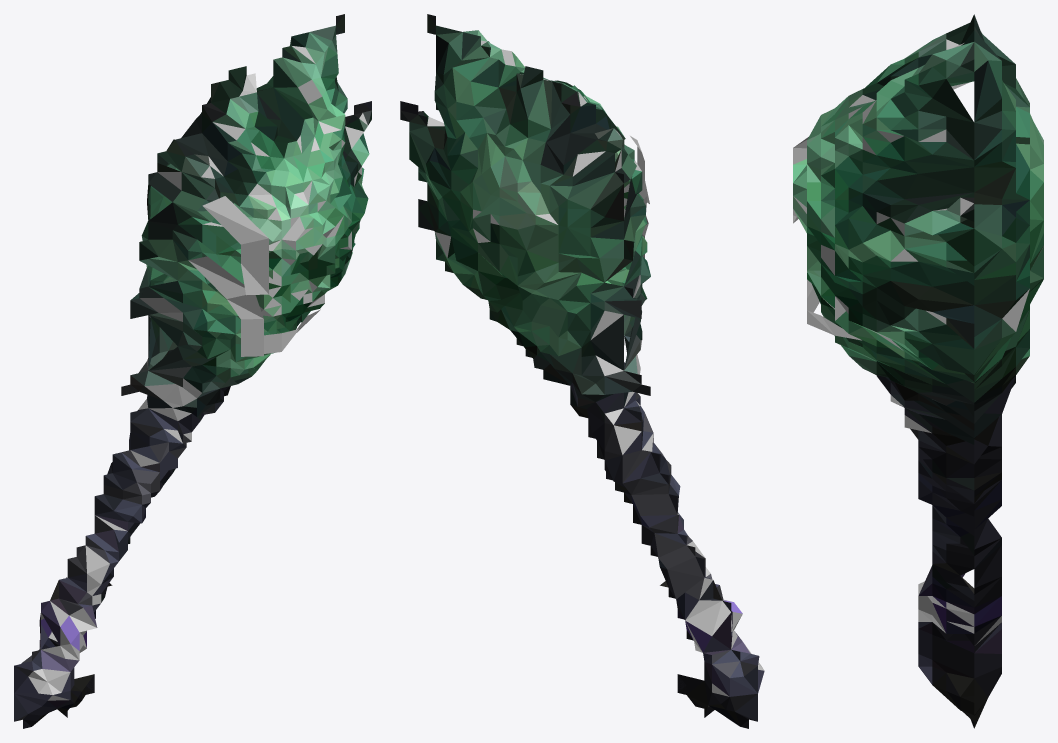
The model's file is B11_6_necrotic_soulstaff.obj.
3 views of the same model, side by side, from view 1: azimuth 30°, elevation 25°; view 2: azimuth 150°, elevation 25°; view 3: azimuth 270°, elevation 25° (orthographic). The views are drawn at different scales.
Visible parts, largest first — view 1: B11_6_necrotic_soulstaff; view 2: B11_6_necrotic_soulstaff; view 3: B11_6_necrotic_soulstaff.
Part boxes in pixels (box(x1,y1,x2,y2)): B11_6_necrotic_soulstaff: box(14, 14, 371, 728); B11_6_necrotic_soulstaff: box(400, 14, 764, 728); B11_6_necrotic_soulstaff: box(793, 14, 1043, 728).
Size of the model in its own units: 40 by 68 by 18.
